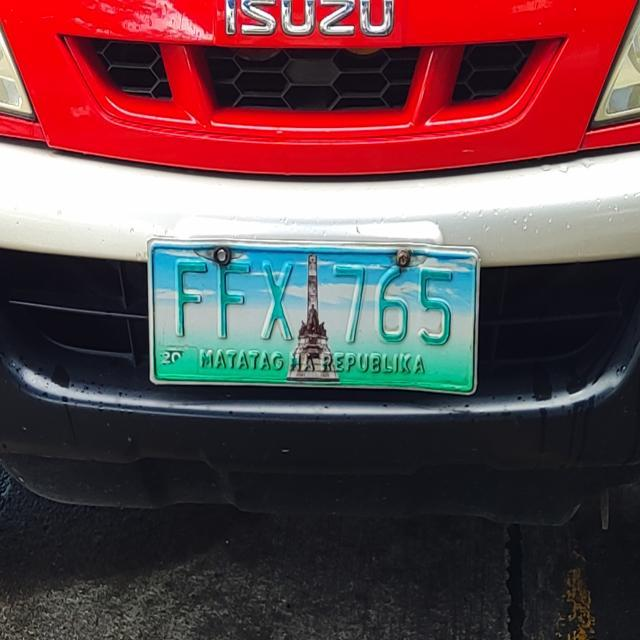LicensePlate: (136, 224, 504, 420)
